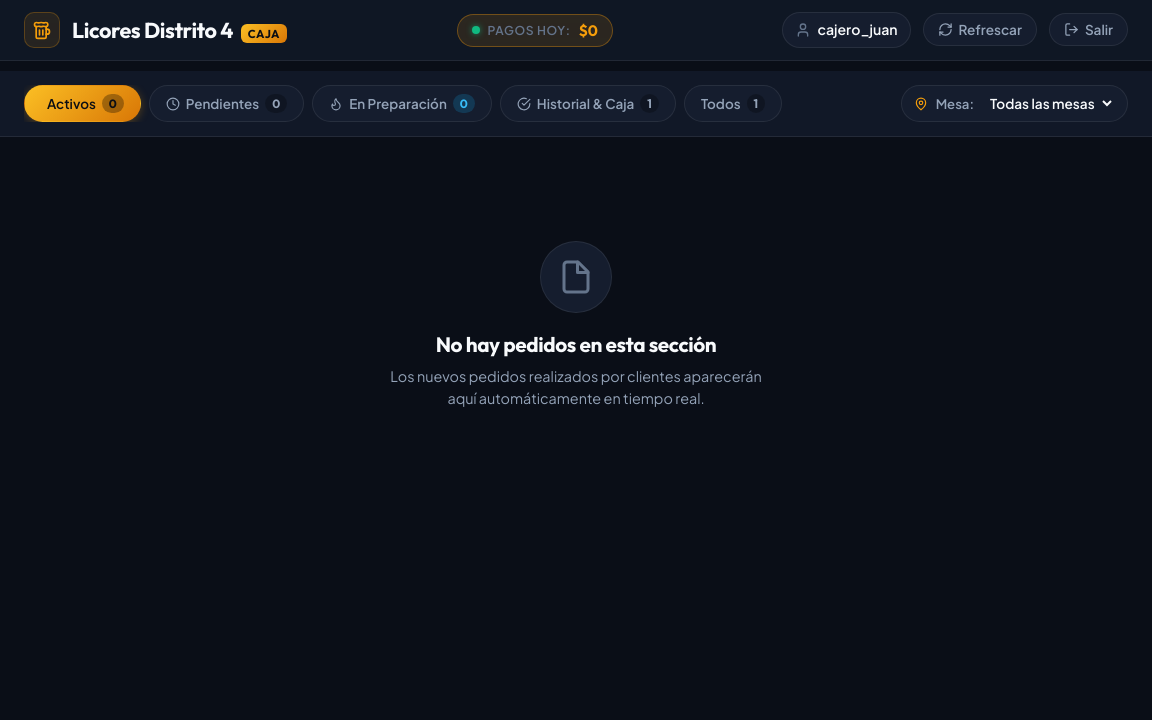
it: OpsDashboardView Component › removes cancelled orders from active view and does not count them as active
This screenshot has width=1152, height=720.
Expected: the 1st text with class "tab-counter" reads "0", top-left (109, 96), bottom-right (117, 111)
# Cambiar a la pestaña de Historial
What coordinates should you click on to do the following:
click the button with class "tab-history"
I would click on:
 (588, 104)
Its box is top-left (500, 85), bottom-right (676, 122).
(page scrolled)
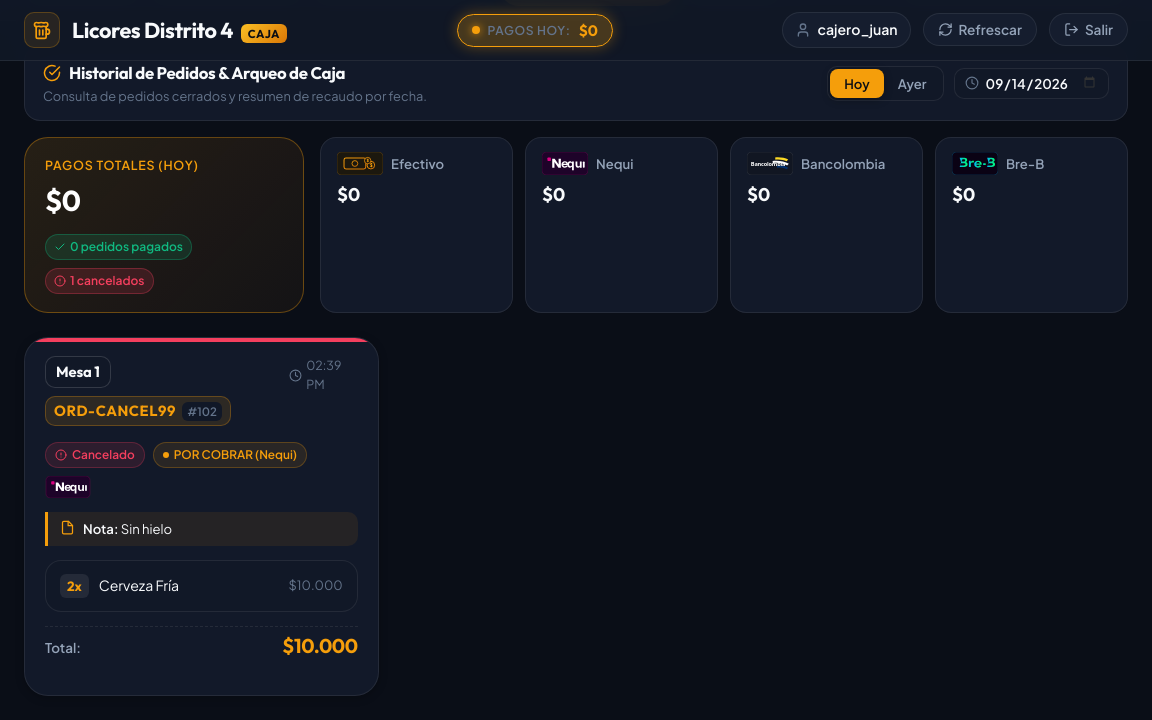
Now the element with class "order-card" is shown, box top-left (24, 337), bottom-right (379, 696)
Now the text "ORD-CANCEL99" is shown, box top-left (54, 400), bottom-right (176, 422)
